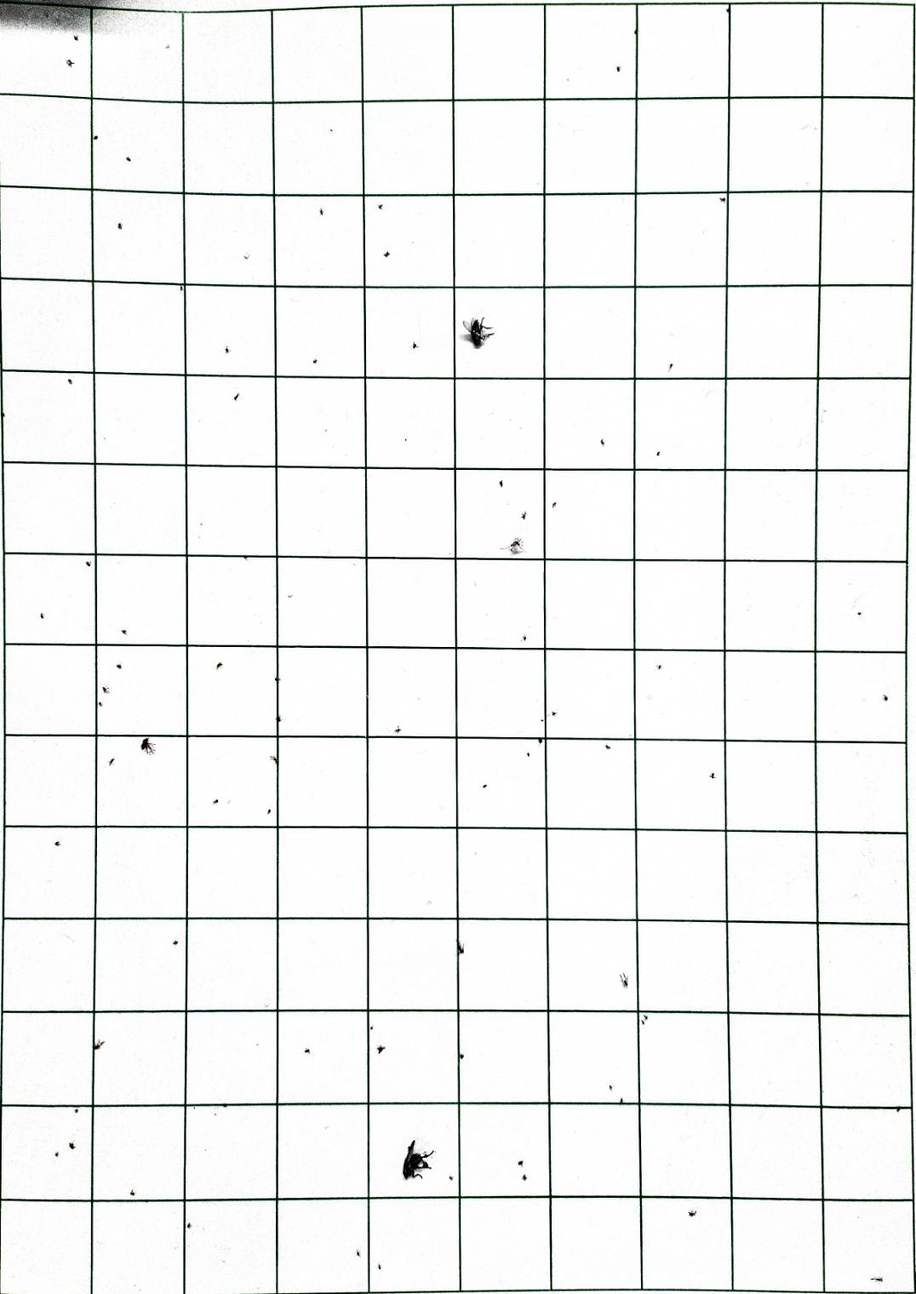fly: (401, 1138, 433, 1179), (460, 318, 490, 352)
test: (504, 537, 525, 554), (140, 737, 156, 754), (619, 971, 629, 986), (93, 1038, 105, 1049), (456, 938, 464, 954), (870, 1274, 883, 1281), (631, 25, 640, 35), (640, 1013, 648, 1024), (616, 1096, 625, 1105), (365, 1023, 375, 1031), (376, 1044, 384, 1053), (66, 59, 75, 67), (269, 754, 277, 763), (240, 552, 248, 561), (688, 1208, 696, 1216), (102, 685, 110, 693), (68, 1140, 75, 1149), (394, 724, 401, 733), (108, 757, 115, 766), (216, 661, 223, 669), (667, 362, 673, 371), (129, 1188, 136, 1195), (172, 938, 179, 945), (520, 511, 526, 519), (233, 393, 239, 401), (117, 222, 123, 230), (536, 736, 542, 744), (186, 1221, 192, 1229), (524, 750, 532, 756), (356, 1248, 361, 1257), (224, 346, 230, 353), (412, 342, 418, 349), (383, 251, 390, 257), (881, 694, 887, 701), (709, 771, 715, 778), (276, 715, 282, 722), (517, 1159, 523, 1166), (212, 798, 219, 804), (54, 840, 61, 846), (521, 1173, 527, 1180), (521, 634, 527, 641), (274, 676, 281, 682), (243, 253, 249, 260), (74, 1106, 80, 1113), (498, 480, 503, 488), (459, 1051, 464, 1059), (725, 7, 730, 15), (377, 1263, 382, 1271), (116, 662, 122, 668), (125, 156, 131, 162), (655, 663, 661, 669), (304, 1047, 310, 1053), (121, 628, 127, 634), (85, 560, 91, 566), (895, 1105, 901, 1111), (604, 743, 610, 749), (550, 710, 556, 716), (600, 439, 605, 446), (615, 65, 620, 72), (319, 208, 324, 215), (551, 501, 556, 508), (378, 203, 383, 210), (40, 612, 45, 619), (608, 1083, 613, 1090), (55, 1150, 60, 1157), (165, 43, 170, 50), (719, 197, 725, 202), (68, 378, 73, 384), (93, 135, 98, 141), (74, 35, 79, 41), (312, 358, 317, 364), (448, 1174, 453, 1180), (655, 450, 660, 456), (98, 700, 103, 706), (856, 610, 861, 616), (482, 783, 487, 789), (267, 807, 271, 814), (179, 284, 183, 291)
